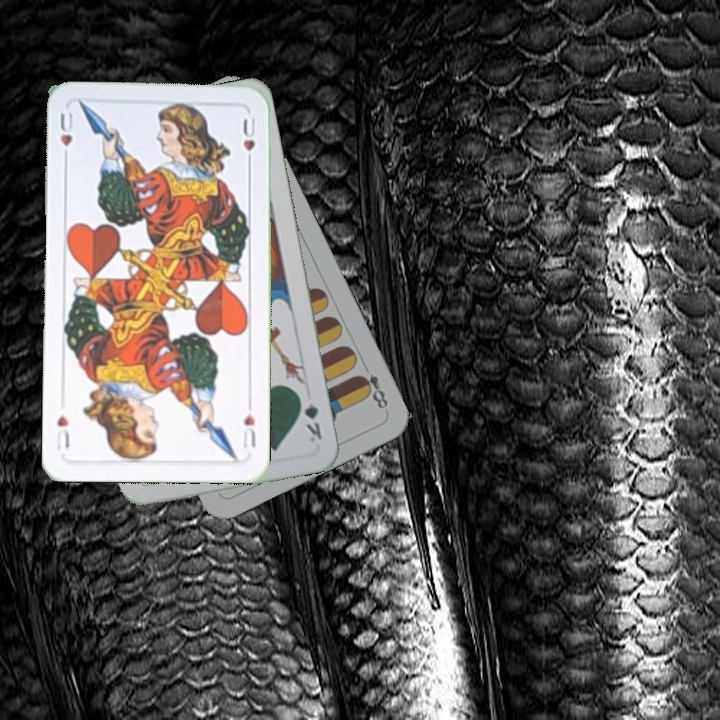E8: (354, 359, 391, 412)
GK: (295, 389, 325, 445)
HU: (56, 108, 75, 165), (239, 398, 259, 451)
